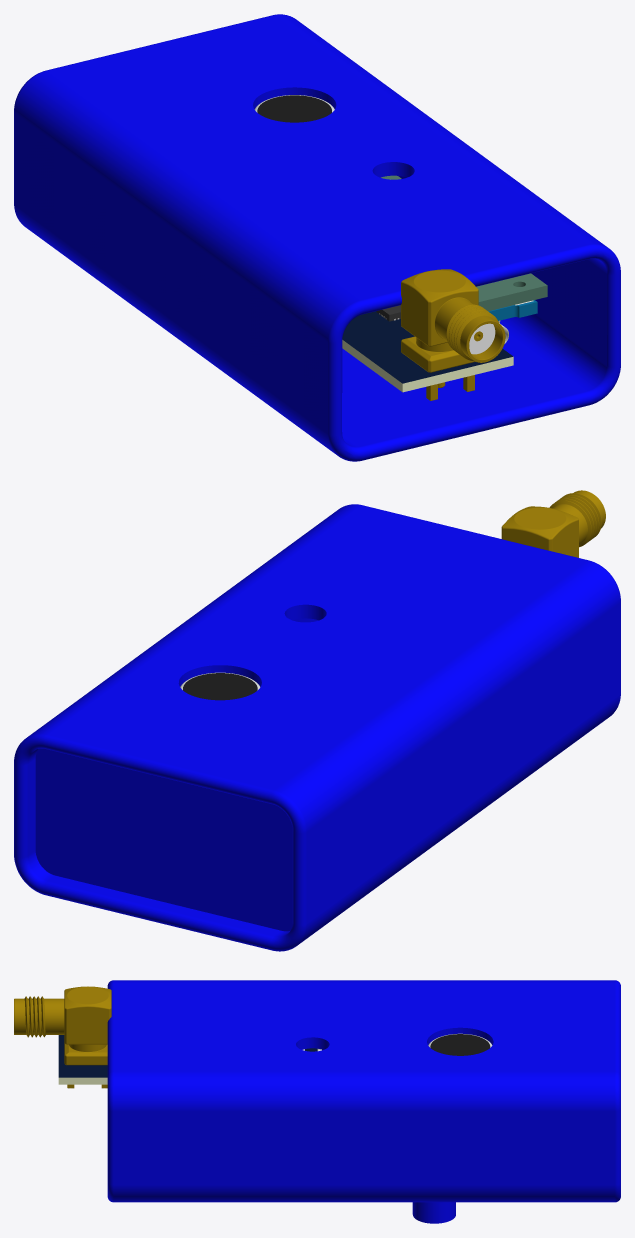
File: shapr3d_export_2026-05-27_12h47m.glb
The picture shows the model from 3 angles, top to bottom: view 1: azimuth 30°, elevation 25°; view 2: azimuth 150°, elevation 25°; view 3: azimuth 270°, elevation 25°; orthographic projection. The views are drawn at different scales.
Bounding box in the file's own units: 0.0401 × 0.0273 × 0.0902.
